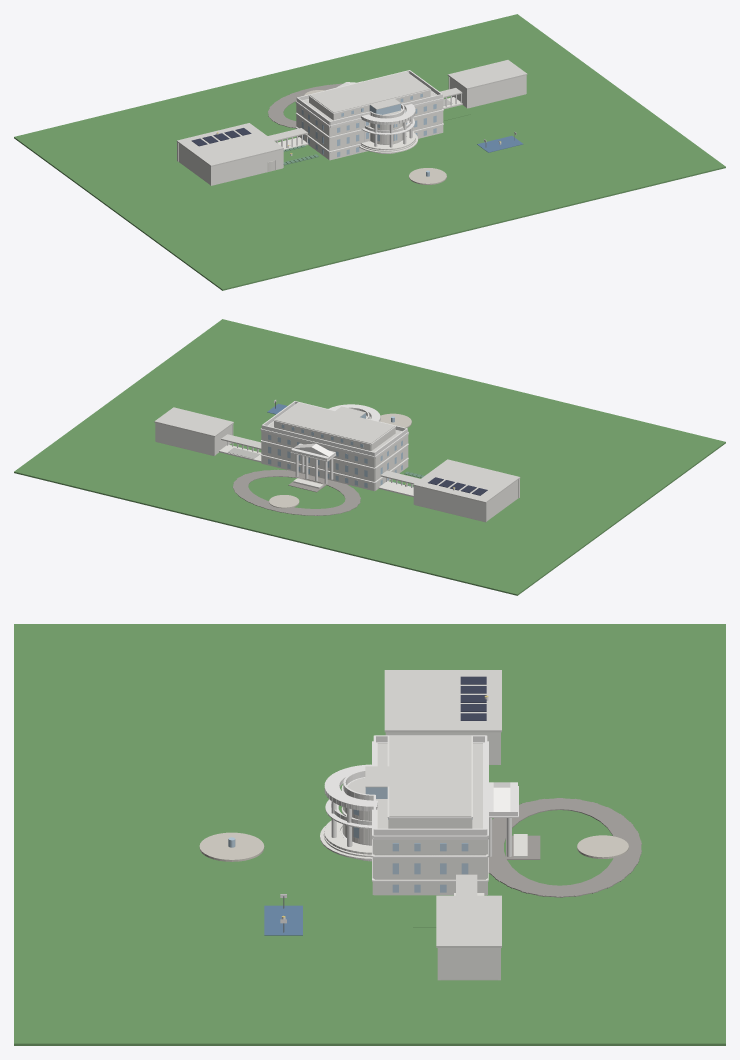
The model's file is the-white-house.glb.
3 renders of one model, top to bottom at view 1: azimuth 30°, elevation 25°; view 2: azimuth 150°, elevation 25°; view 3: azimuth 270°, elevation 25°, orthographic. The views are drawn at different scales.
Visible parts, largest first — view 1: MERGED_WH_Lawn, MERGED_WH_Stone_White, ROOF_WH_Ceiling, MERGED_WH_Trim_White, MERGED_WH_Glass, MERGED_WH_Drive, MERGED_WH_Path; view 2: MERGED_WH_Lawn, MERGED_WH_Stone_White, ROOF_WH_Ceiling, MERGED_WH_Trim_White, MERGED_WH_Drive, MERGED_WH_Glass, MERGED_WH_Path; view 3: MERGED_WH_Lawn, ROOF_WH_Ceiling, MERGED_WH_Stone_White, MERGED_WH_Trim_White, MERGED_WH_Drive, MERGED_WH_Path, MERGED_WH_Glass, MERGED_WH_Court_Blue, MERGED_WH_SolarPanel.
Part boxes in pixels (left/top/right/bottom): MERGED_WH_Lawn: left=14, top=14, right=725, bottom=290; MERGED_WH_Stone_White: left=177, top=75, right=526, bottom=185; ROOF_WH_Ceiling: left=176, top=60, right=527, bottom=166; MERGED_WH_Trim_White: left=276, top=70, right=516, bottom=152; MERGED_WH_Glass: left=301, top=93, right=436, bottom=176; MERGED_WH_Drive: left=267, top=83, right=342, bottom=128; MERGED_WH_Path: left=304, top=90, right=446, bottom=184; MERGED_WH_Lawn: left=14, top=319, right=725, bottom=595; MERGED_WH_Stone_White: left=155, top=420, right=519, bottom=521; ROOF_WH_Ceiling: left=154, top=402, right=520, bottom=503; MERGED_WH_Trim_White: left=227, top=400, right=412, bottom=487; MERGED_WH_Drive: left=232, top=469, right=360, bottom=515; MERGED_WH_Glass: left=268, top=413, right=402, bottom=487; MERGED_WH_Path: left=269, top=413, right=411, bottom=508; MERGED_WH_Lawn: left=14, top=624, right=725, bottom=1045; ROOF_WH_Ceiling: left=348, top=670, right=501, bottom=947; MERGED_WH_Stone_White: left=320, top=732, right=527, bottom=980; MERGED_WH_Trim_White: left=280, top=735, right=518, bottom=923; MERGED_WH_Drive: left=488, top=798, right=641, bottom=897; MERGED_WH_Path: left=199, top=832, right=628, bottom=861; MERGED_WH_Glass: left=228, top=787, right=472, bottom=892; MERGED_WH_Court_Blue: left=264, top=905, right=302, bottom=935; MERGED_WH_SolarPanel: left=460, top=676, right=486, bottom=720.
Size of the model in its own units: 368 by 43.25 by 264.
